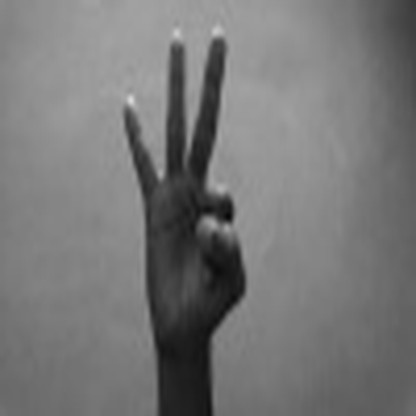f: (116, 19, 252, 342)
